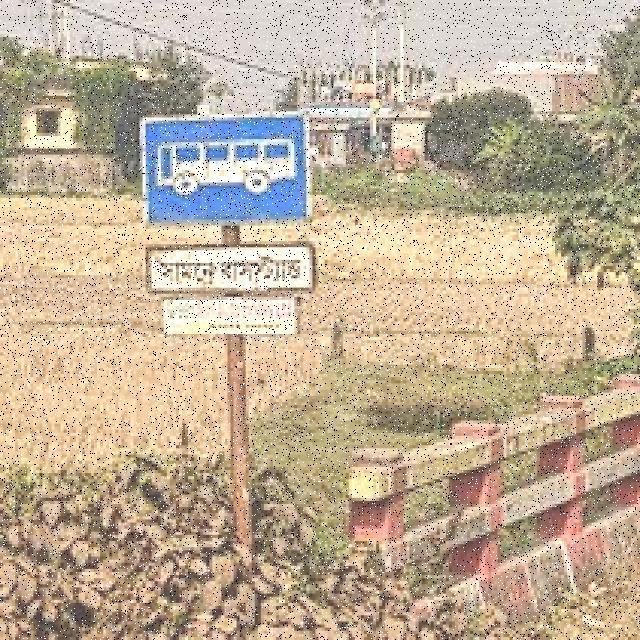Ahead-the-bus-station: (133, 98, 324, 353)
